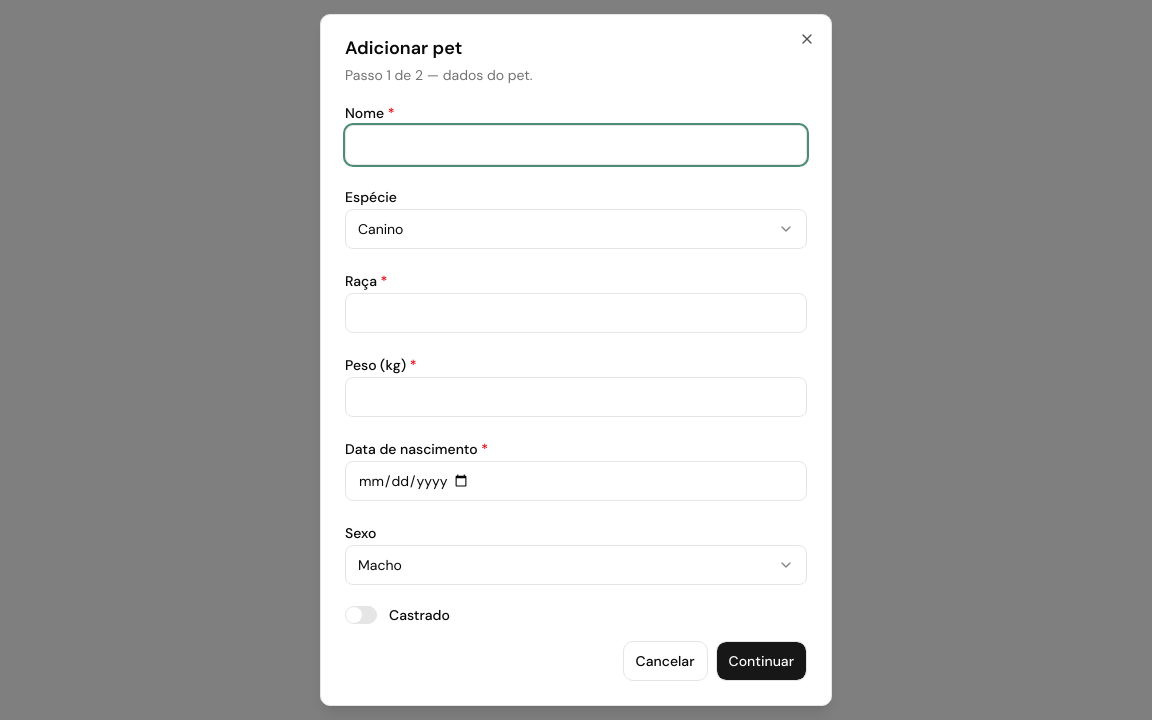
Test: AddPetToClientDialog — Passo 1 validation › should advance to step 2 when all fields are valid
Type "Rex" into the field labelled "Nome *". click: (576, 145)
box: [345,125,807,165]
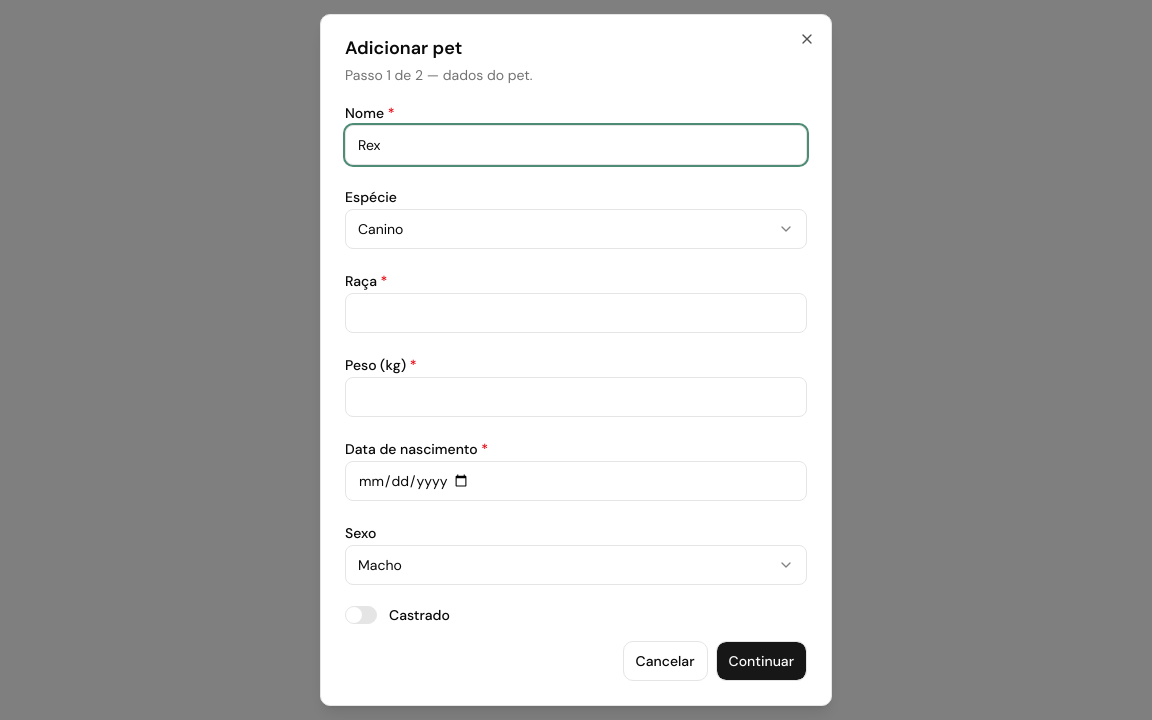
Type "Golden" into the field labelled "Raça *". click: (576, 313)
box: [345,293,807,333]
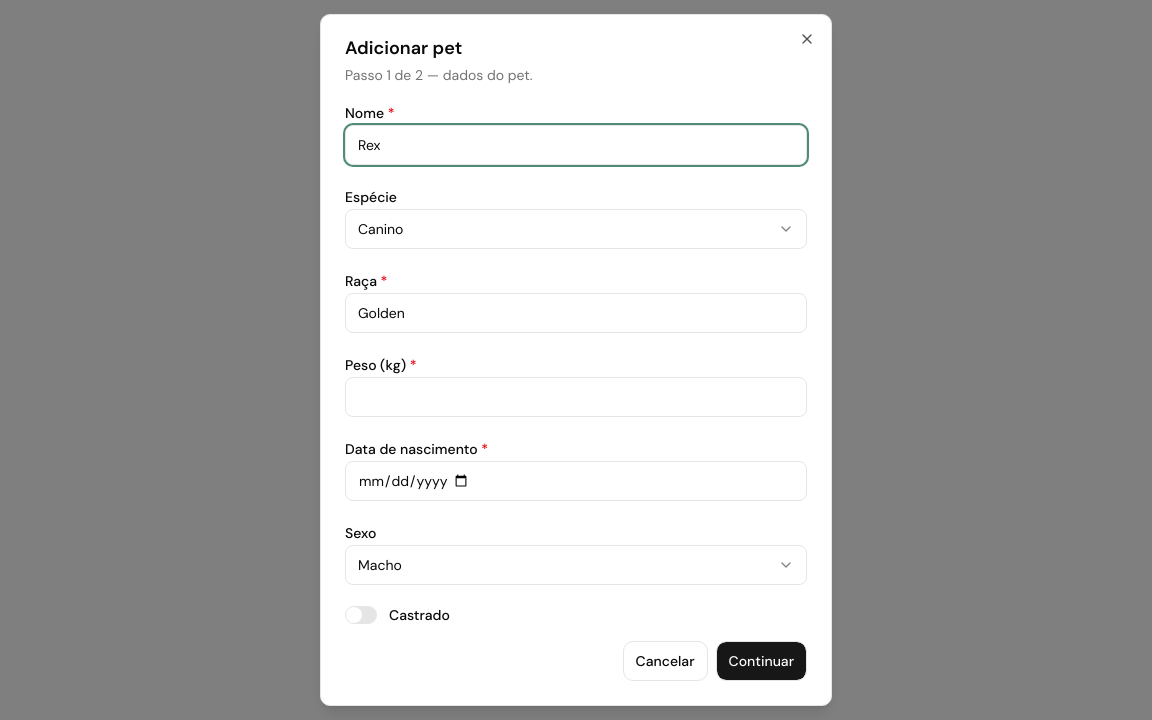
Type "25" into the number field labelled "Peso (kg) *". click: (576, 397)
box: [345,377,807,417]
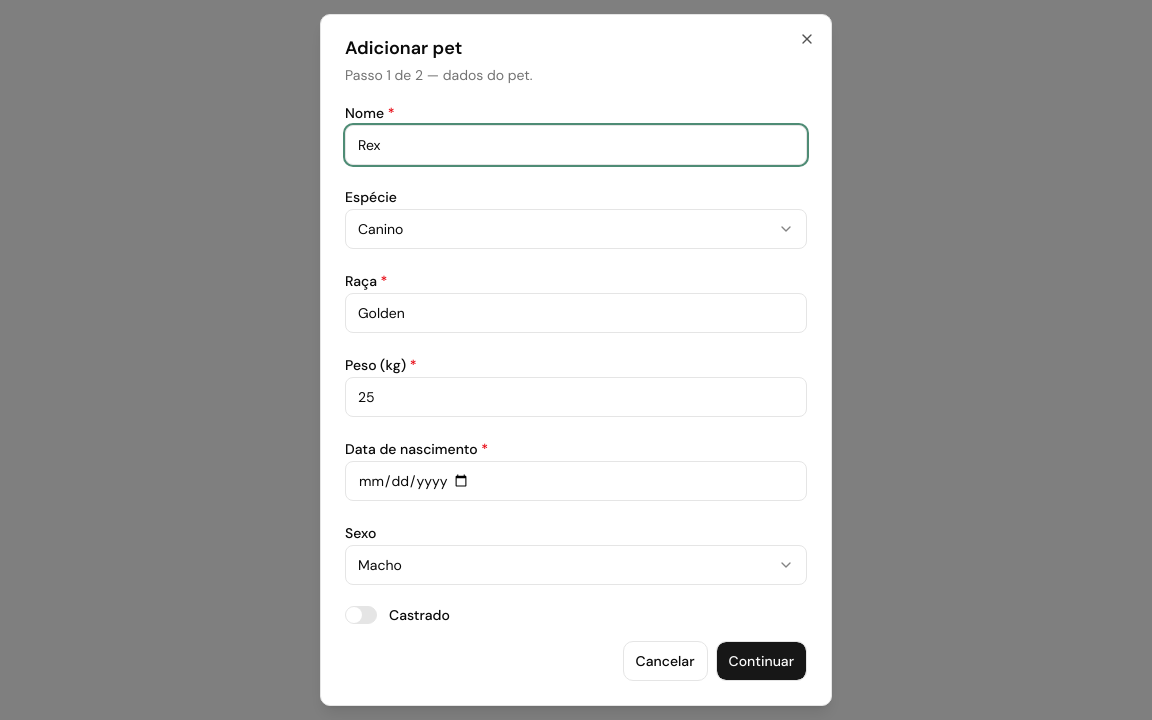
Type "2021-01-01" into the date field labelled "Data de nascimento *". click: (576, 481)
box: [345,461,807,501]
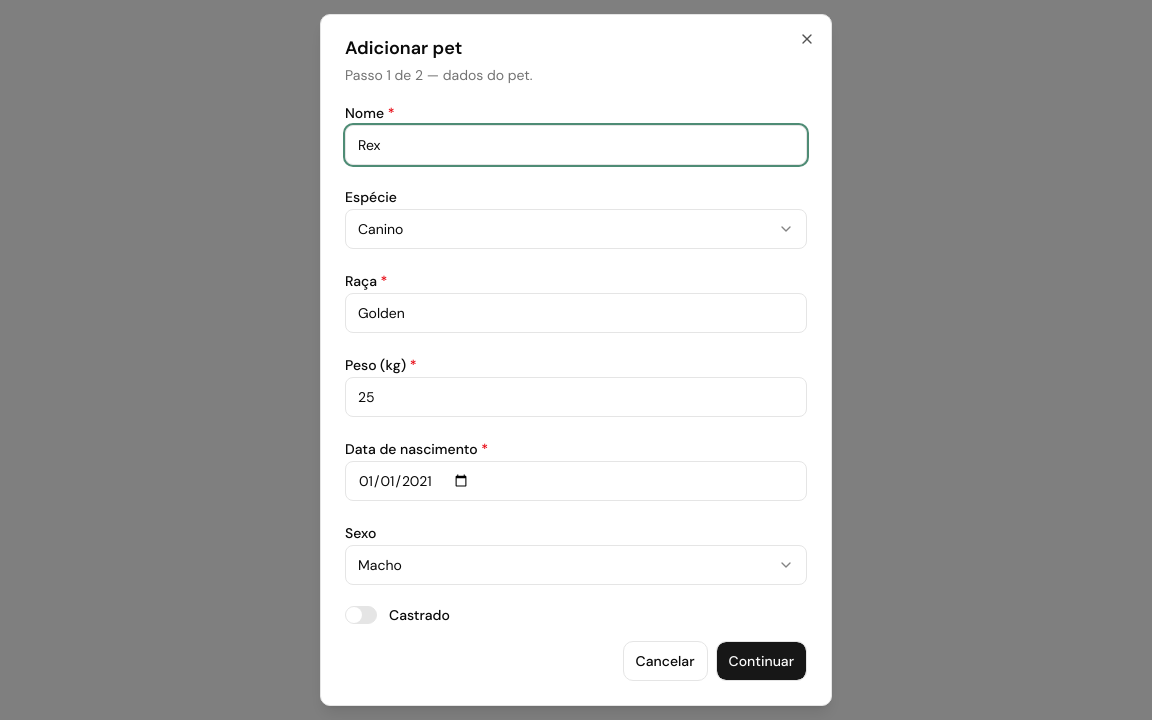
Submit the form with id "add-pet-form", box [345,101,807,625]
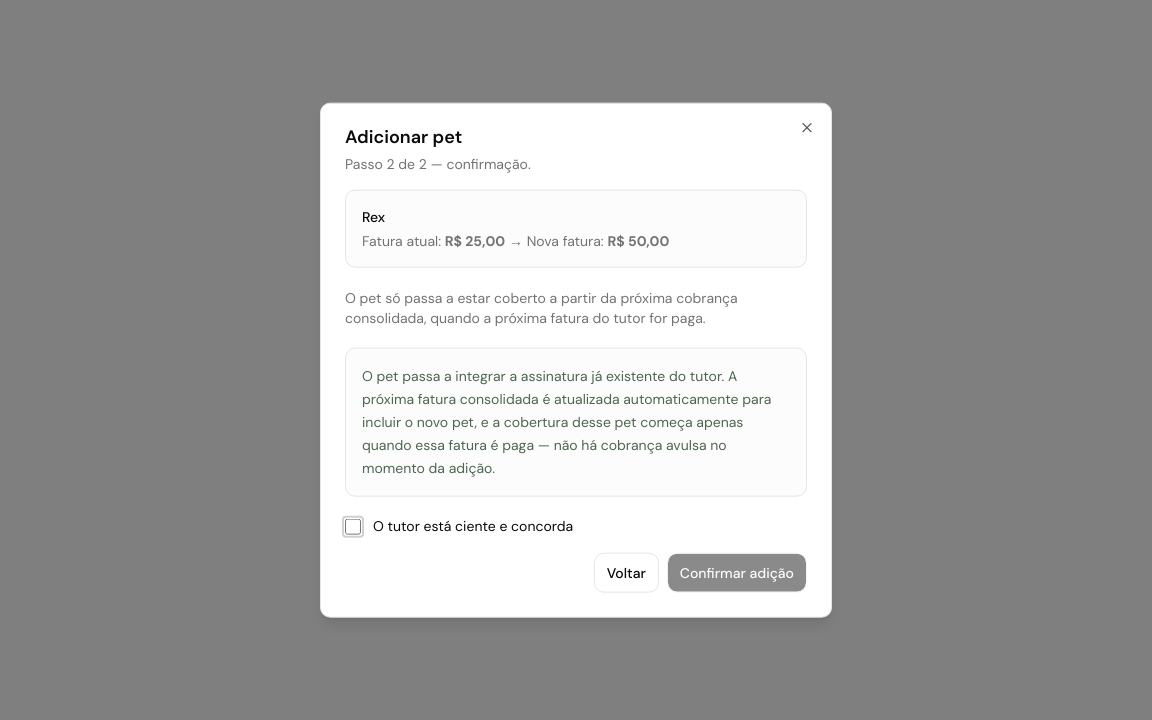
Expected: the checkbox labelled "O tutor está ciente e concorda" is shown, [345,519,361,535]
